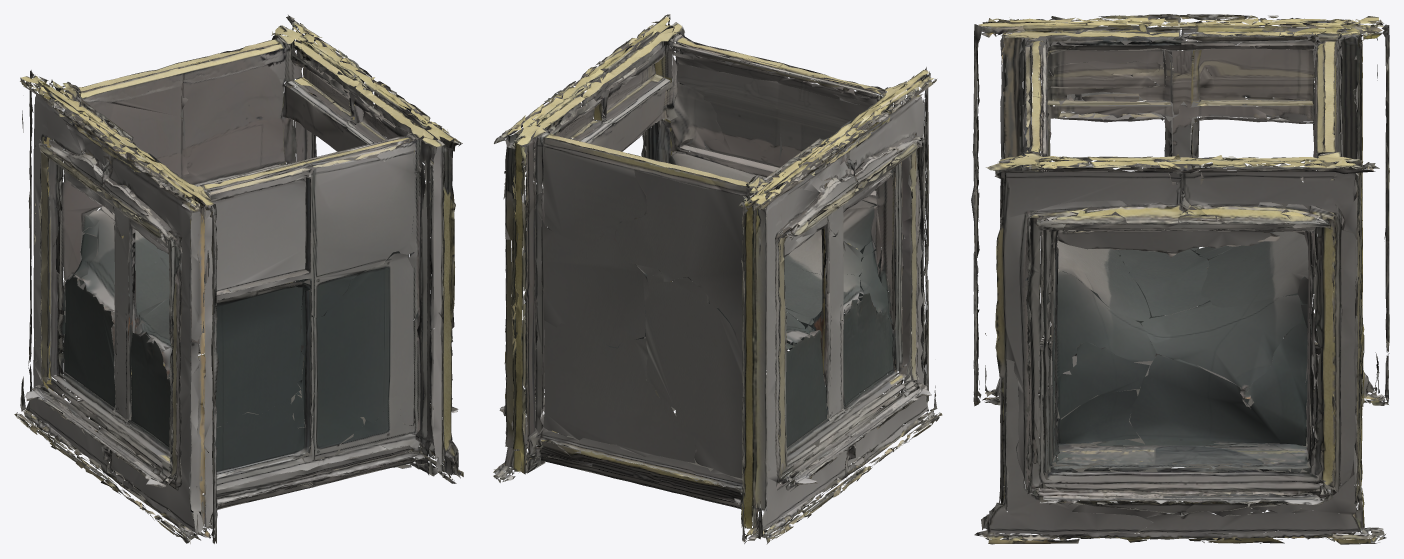
The model's file is Env_ObservationWall_4m.fbx.
3 renders of one model, left to right at view 1: azimuth 30°, elevation 25°; view 2: azimuth 150°, elevation 25°; view 3: azimuth 270°, elevation 25°, orthographic. The views are drawn at different scales.
Visible parts, largest first — view 1: texture_mapping; view 2: texture_mapping; view 3: texture_mapping.
Boxes of the visible parts, bbox=[...] form: texture_mapping: bbox=[14, 15, 463, 543]; texture_mapping: bbox=[493, 14, 942, 544]; texture_mapping: bbox=[971, 14, 1389, 544].
Size of the model in its own units: 0.9577 by 1 by 0.9869.
